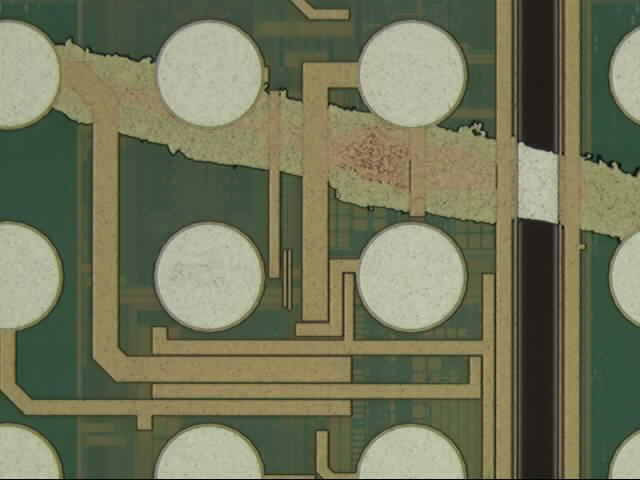BLOCK ETCH: (51, 37, 640, 245)
